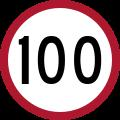Speed Limit -100-: (13, 33, 105, 88)
